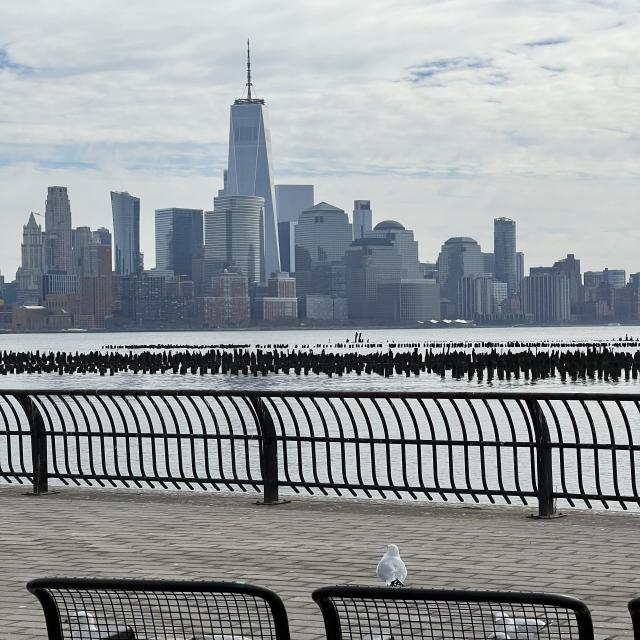WTC: (226, 40, 273, 196)
